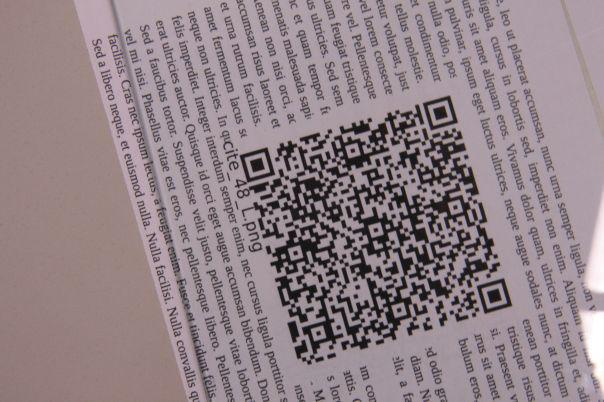Finder pattern: (421, 94, 463, 133), (238, 149, 276, 185), (477, 278, 513, 314)
